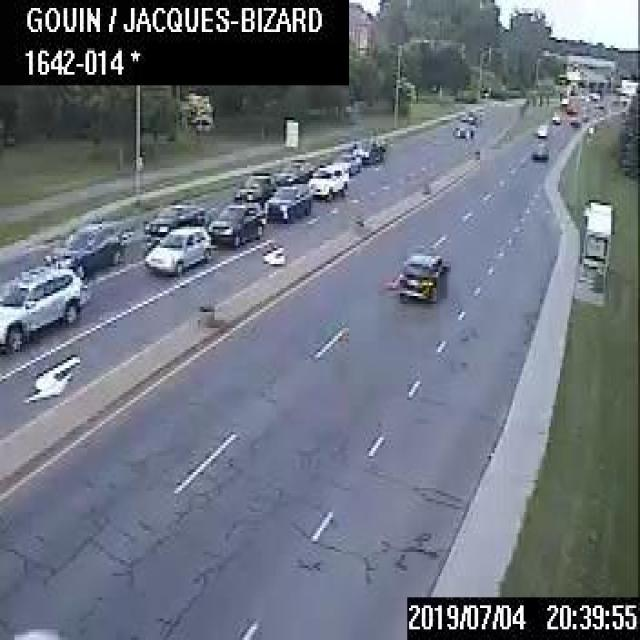vehicle: (0, 263, 82, 348), (42, 221, 122, 272), (142, 224, 208, 274), (143, 203, 205, 247), (396, 252, 449, 301), (206, 202, 264, 245), (263, 183, 310, 220), (307, 160, 348, 197), (233, 173, 276, 203), (274, 157, 313, 184), (351, 138, 384, 162), (331, 152, 359, 173), (451, 124, 472, 137), (531, 142, 547, 159), (459, 109, 476, 123), (567, 116, 580, 126), (536, 123, 546, 135), (551, 113, 559, 122)
